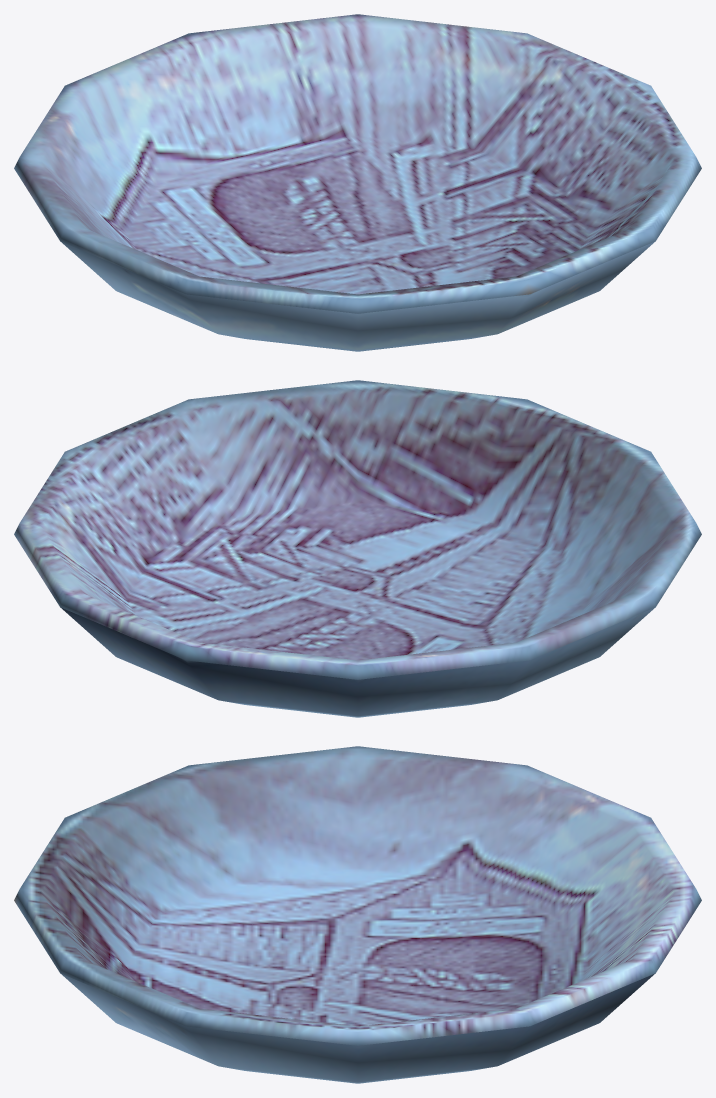
File: dish-7.FBX
The picture shows the model from 3 angles, top to bottom: view 1: azimuth 30°, elevation 25°; view 2: azimuth 150°, elevation 25°; view 3: azimuth 270°, elevation 25°; orthographic projection.
Parts seen in each view (by area): view 1: Line01; view 2: Line01; view 3: Line01.
Boxes of the visible parts, x1,y1,x2,y2 form: Line01: (14,14,701,351); Line01: (14,380,701,717); Line01: (14,746,701,1083).
Size of the model in its own units: 7.91 by 1.38 by 7.91.
